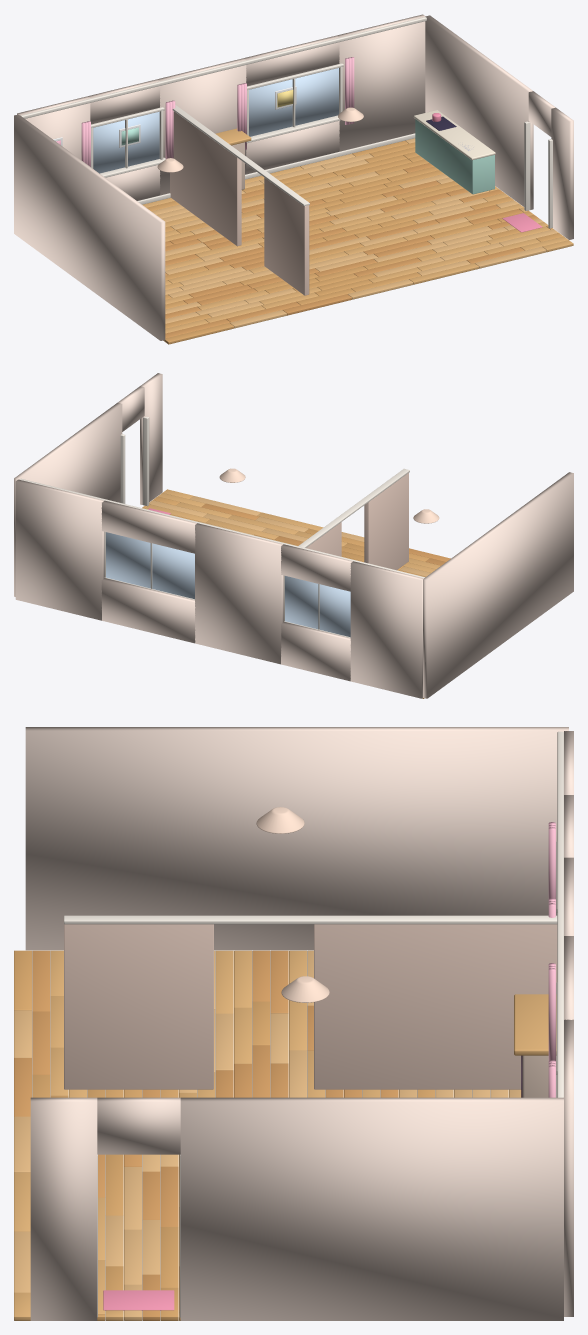
Rendered from house.glb.
3 renders of one model, top to bottom at view 1: azimuth 30°, elevation 25°; view 2: azimuth 150°, elevation 25°; view 3: azimuth 270°, elevation 25°, orthographic. The views are drawn at different scales.
Parts seen in each view (by area): view 1: House_static; view 2: House_static; view 3: House_static.
Boxes of the visible parts, x1,y1,x2,y2 form: House_static: (14,14,573,344); House_static: (14,373,573,698); House_static: (14,727,573,1320).
Bounding box in the file's own units: 10.64 × 2.96 × 6.72.
